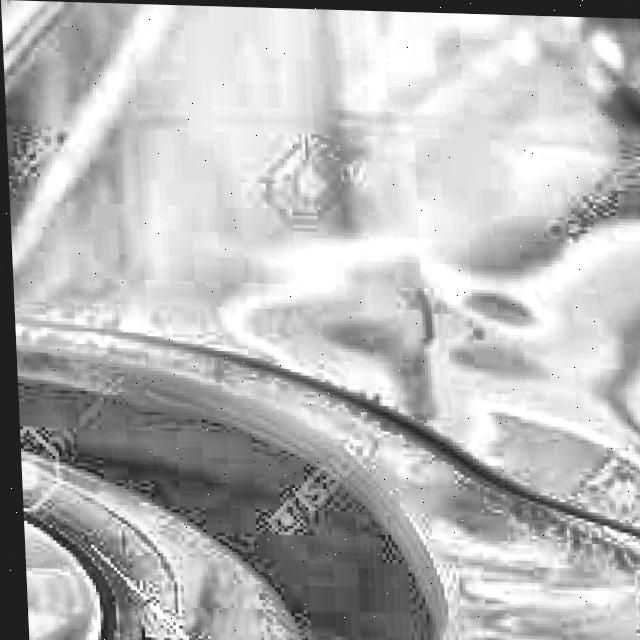door_dent: (267, 221, 640, 549)
